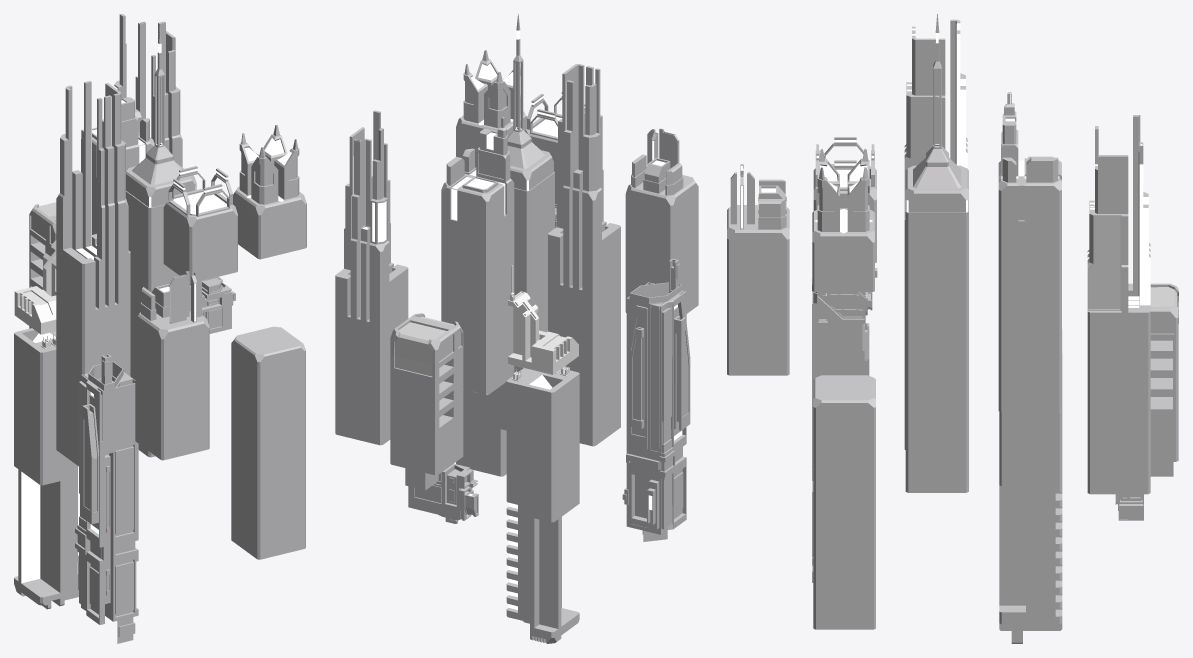
The model's file is floating-city.gltf.
The picture shows the model from 3 angles, left to right: view 1: azimuth 30°, elevation 25°; view 2: azimuth 150°, elevation 25°; view 3: azimuth 270°, elevation 25°; orthographic projection. The views are drawn at different scales.
Visible parts, largest first — view 1: gleaming white; view 2: gleaming white; view 3: gleaming white.
Part boxes in pixels (x1,y1,x2,y2): gleaming white: (14,14,306,643); gleaming white: (335,14,698,643); gleaming white: (727,14,1178,643).
Size of the model in its own units: 22.13 by 57.27 by 35.87.
